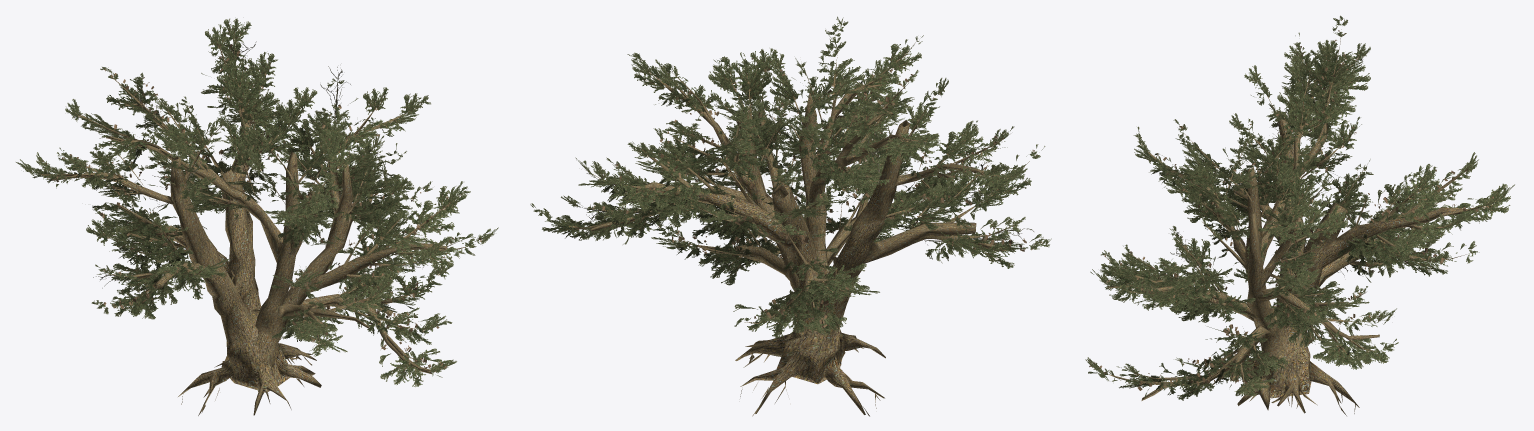
Rendered from cedre_mobile.glb.
3 views of the same model, side by side, from view 1: azimuth 30°, elevation 25°; view 2: azimuth 150°, elevation 25°; view 3: azimuth 270°, elevation 25° (orthographic). The views are drawn at different scales.
Parts seen in each view (by area): view 1: CedarOfLebanon_Med_Leaves_CedarOfLebanonNeedles_0, CedarOfLebanon_Med_Branches_CedarOfLebanonBark_0, CedarOfLebanon_Med_Fronds_Branches_01_0; view 2: CedarOfLebanon_Med_Leaves_CedarOfLebanonNeedles_0, CedarOfLebanon_Med_Branches_CedarOfLebanonBark_0, CedarOfLebanon_Med_Fronds_Branches_01_0; view 3: CedarOfLebanon_Med_Leaves_CedarOfLebanonNeedles_0, CedarOfLebanon_Med_Branches_CedarOfLebanonBark_0.
Boxes of the visible parts, left/top/right/bottom form: CedarOfLebanon_Med_Leaves_CedarOfLebanonNeedles_0: left=16, top=18, right=498, bottom=386; CedarOfLebanon_Med_Branches_CedarOfLebanonBark_0: left=41, top=40, right=467, bottom=415; CedarOfLebanon_Med_Fronds_Branches_01_0: left=74, top=20, right=439, bottom=345; CedarOfLebanon_Med_Leaves_CedarOfLebanonNeedles_0: left=530, top=16, right=1051, bottom=338; CedarOfLebanon_Med_Branches_CedarOfLebanonBark_0: left=569, top=41, right=1029, bottom=416; CedarOfLebanon_Med_Fronds_Branches_01_0: left=577, top=68, right=1033, bottom=299; CedarOfLebanon_Med_Leaves_CedarOfLebanonNeedles_0: left=1085, top=15, right=1514, bottom=400; CedarOfLebanon_Med_Branches_CedarOfLebanonBark_0: left=1103, top=29, right=1497, bottom=415.
Size of the model in its own units: 19.48 by 15.31 by 18.02.
3 materials, 3 textured.
